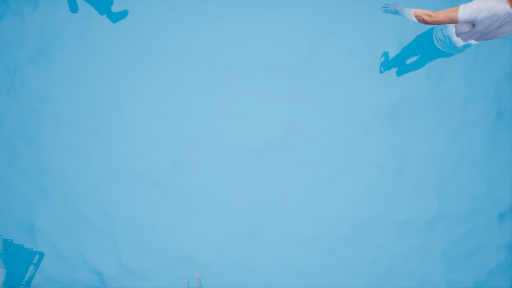person: (372, 1, 512, 77)
